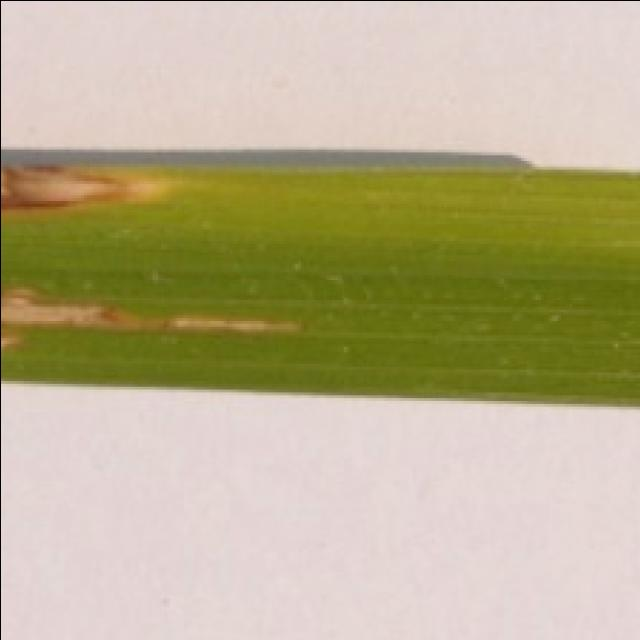Unhealthy: (0, 281, 308, 338), (0, 160, 187, 219), (0, 334, 26, 355)
